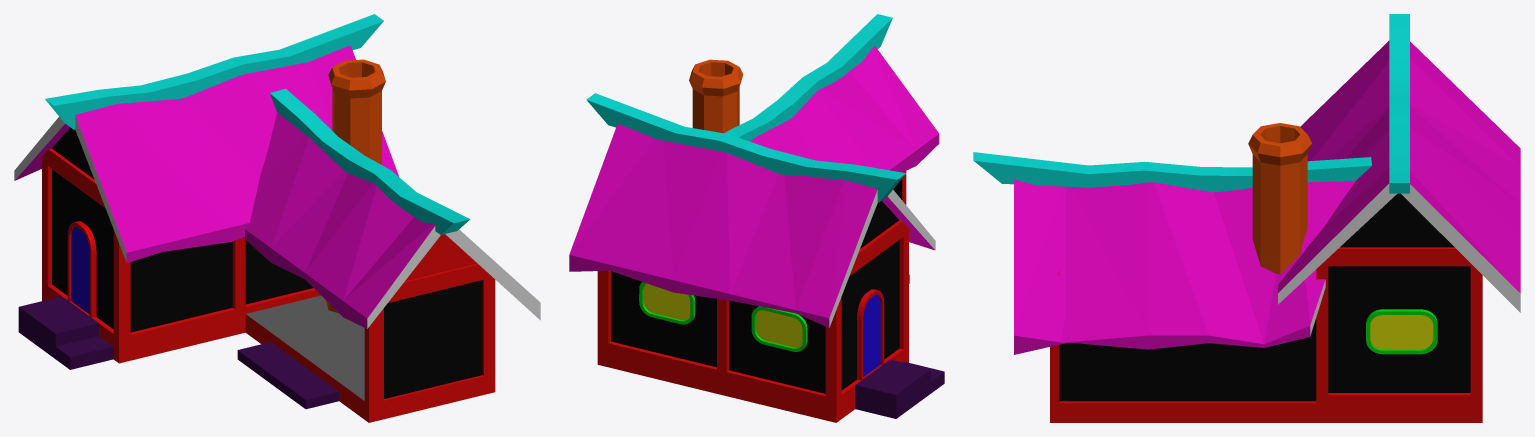
The model's file is BlackSmith.fbx.
The picture shows the model from 3 angles, left to right: view 1: azimuth 30°, elevation 25°; view 2: azimuth 150°, elevation 25°; view 3: azimuth 270°, elevation 25°; orthographic projection. The views are drawn at different scales.
Visible parts, largest first — view 1: Box002; view 2: Box002; view 3: Box002.
Boxes of the visible parts, x1,y1,x2,y2 form: Box002: (14,14,540,422); Box002: (569,14,944,422); Box002: (973,14,1520,422).
Size of the model in its own units: 754 by 530 by 968.
